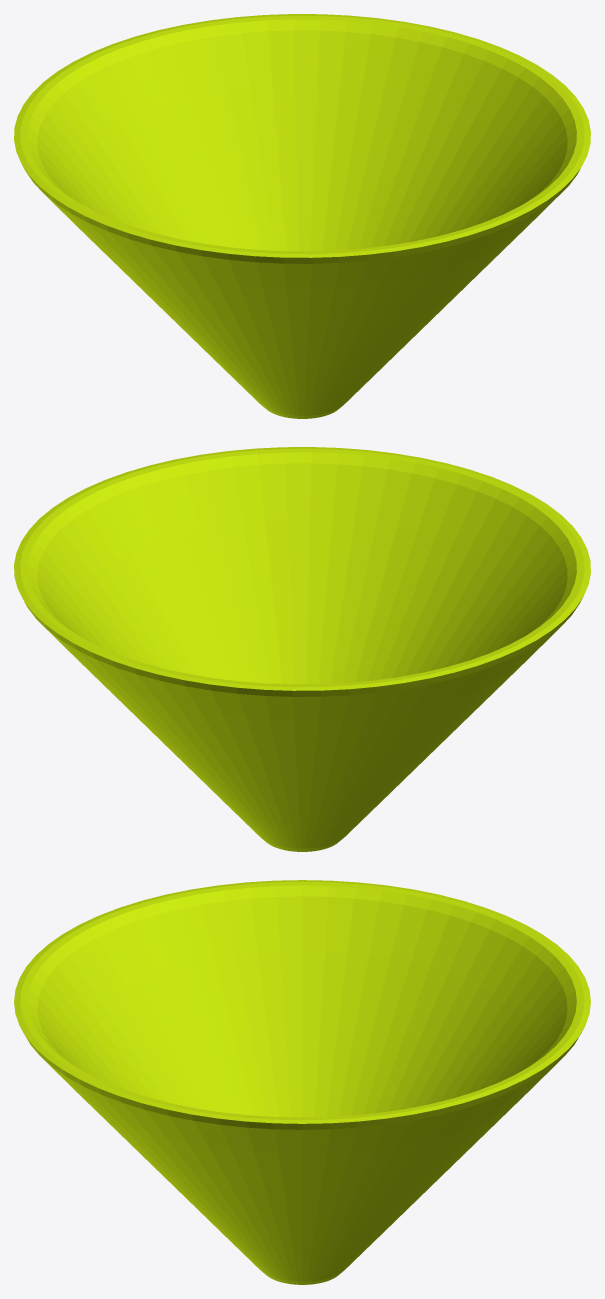
The model's file is funnel.fbx.
3 views of the same model, one above another, from view 1: azimuth 30°, elevation 25°; view 2: azimuth 150°, elevation 25°; view 3: azimuth 270°, elevation 25° (orthographic).
Parts seen in each view (by area): view 1: Cylinder; view 2: Cylinder; view 3: Cylinder.
Part boxes in pixels (box(x1,y1,x2,y2)): Cylinder: box(14, 14, 590, 418); Cylinder: box(14, 447, 590, 851); Cylinder: box(14, 880, 590, 1284).
Size of the model in its own units: 586 by 300 by 586.
